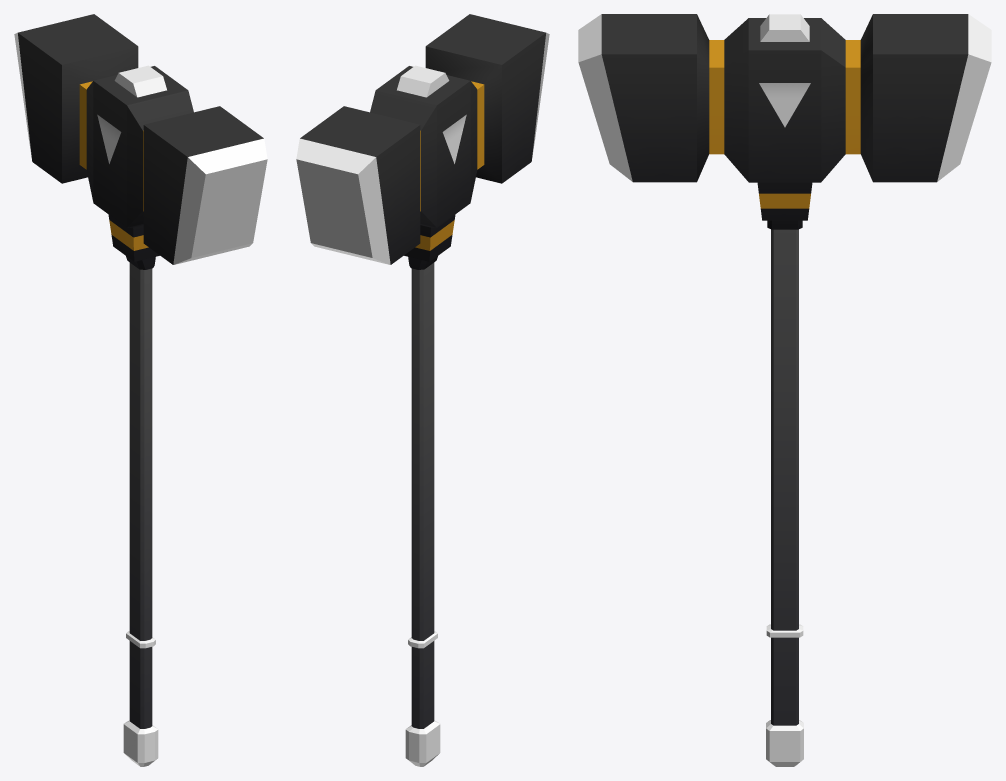
File: Weapon_Sledge_Hammer.fbx
3 renders of one model, left to right at view 1: azimuth 30°, elevation 25°; view 2: azimuth 150°, elevation 25°; view 3: azimuth 270°, elevation 25°, orthographic. The views are drawn at different scales.
Visible parts, largest first — view 1: W_H_1; view 2: W_H_1; view 3: W_H_1.
Part boxes in pixels (x1=…): W_H_1: x1=14, y1=14, x2=267, y2=766; W_H_1: x1=296, y1=14, x2=549, y2=766; W_H_1: x1=578, y1=14, x2=991, y2=766.
Bounding box in the file's own units: 13.81 × 119 × 59.94.
